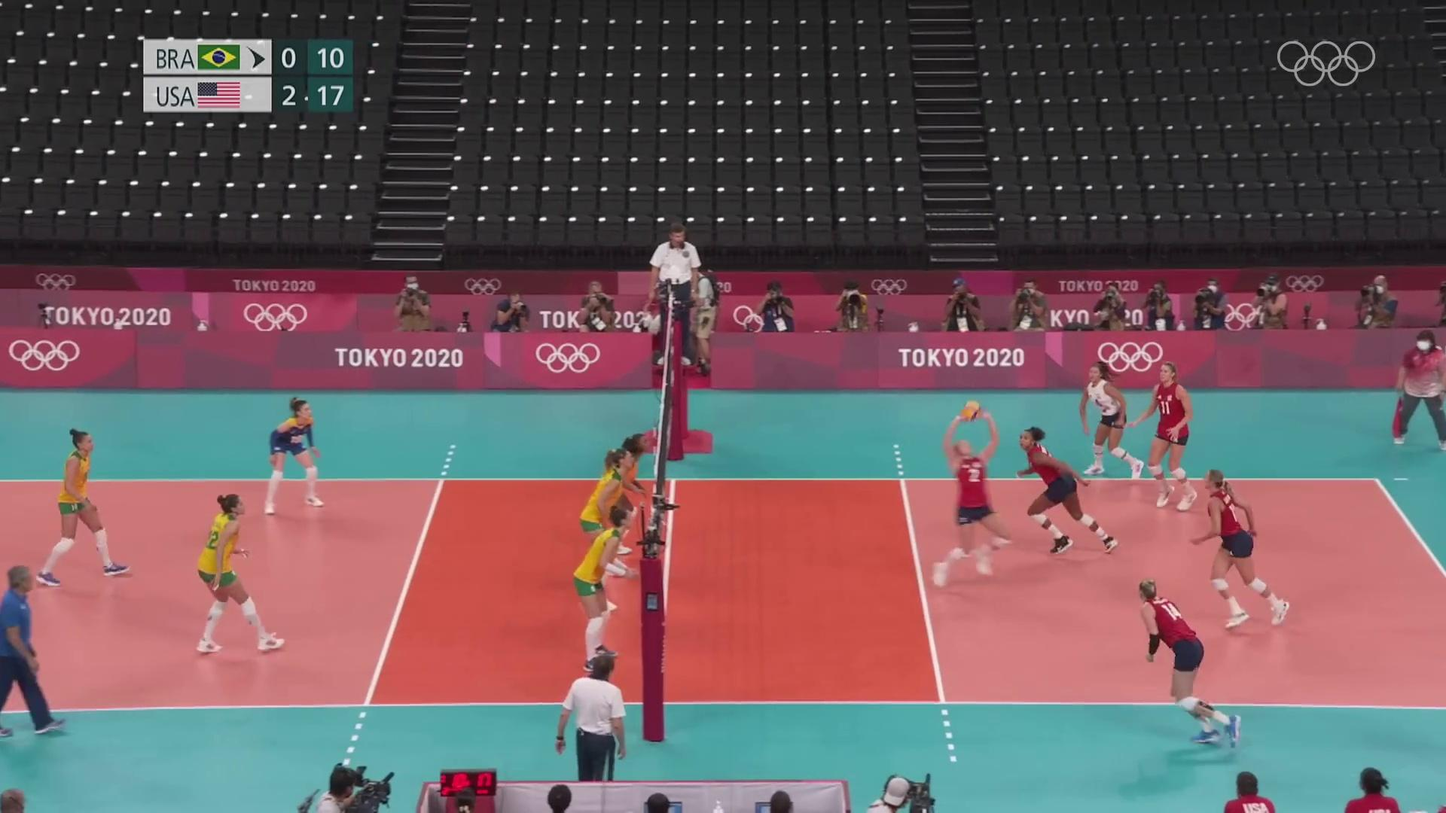player: (1136, 581, 1243, 751), (1191, 467, 1290, 631), (933, 400, 1011, 594), (38, 428, 130, 586), (196, 492, 285, 652), (1014, 428, 1117, 556), (572, 504, 636, 674), (1136, 361, 1198, 515), (580, 449, 636, 612), (1081, 361, 1143, 481), (267, 397, 324, 513), (609, 433, 654, 559)
refree: (553, 654, 629, 799), (651, 221, 703, 366), (1391, 327, 1446, 449)
